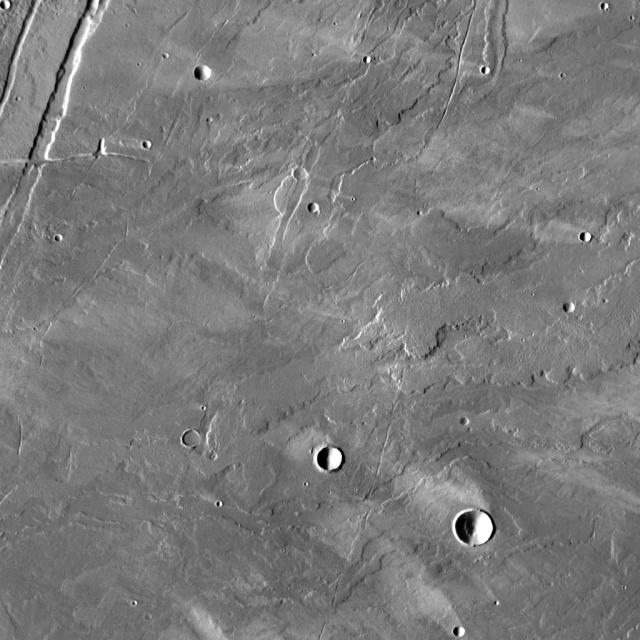crater: (458, 510, 497, 546), (321, 446, 346, 470), (185, 429, 204, 446), (194, 64, 212, 80), (298, 167, 313, 180), (313, 202, 324, 212), (457, 626, 468, 636), (584, 232, 594, 242), (566, 302, 577, 311), (6, 0, 16, 9), (146, 138, 155, 147), (463, 416, 472, 424), (366, 54, 374, 62), (484, 66, 492, 73), (603, 1, 611, 8), (57, 233, 65, 240), (140, 605, 148, 612)
